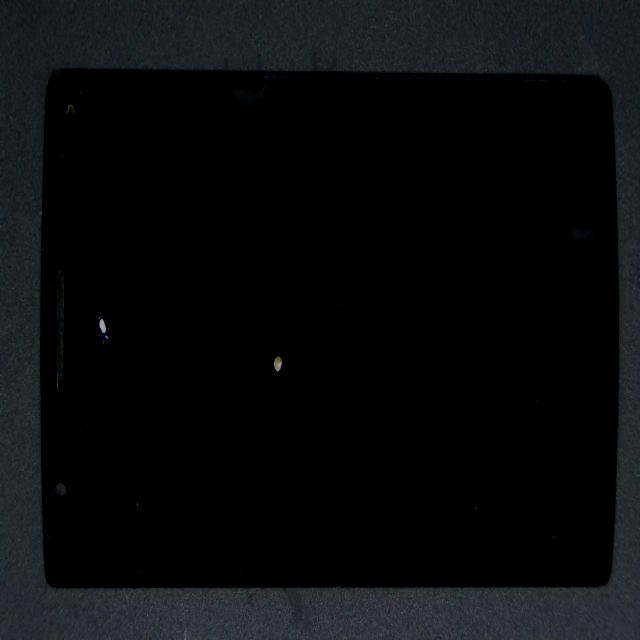stain: (150, 202, 434, 528), (42, 120, 144, 492)
